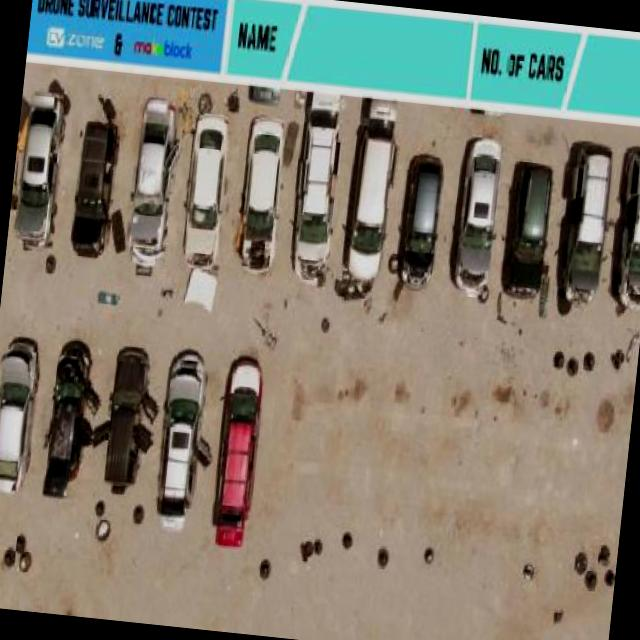car: (206, 349, 269, 541), (288, 91, 348, 284), (343, 104, 399, 284), (230, 114, 292, 274), (450, 133, 510, 298), (123, 90, 181, 260), (561, 140, 619, 302), (11, 91, 71, 246), (178, 104, 235, 265), (38, 326, 95, 478), (158, 348, 207, 510), (99, 338, 152, 481), (68, 114, 120, 258), (506, 156, 555, 301), (398, 152, 448, 292), (0, 337, 41, 477), (613, 145, 640, 301)
